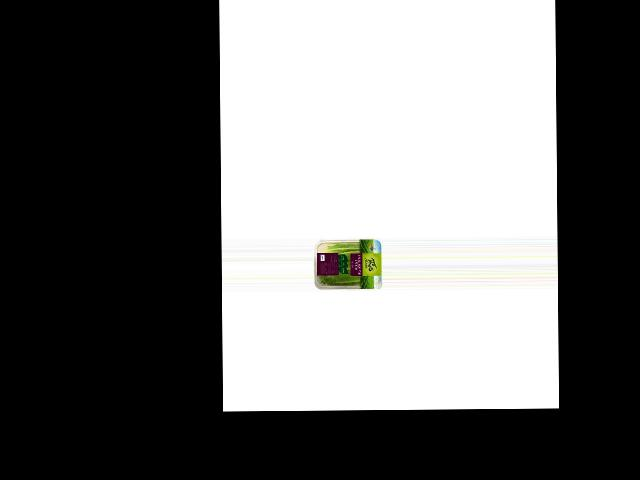lettuce: (313, 238, 377, 289)
